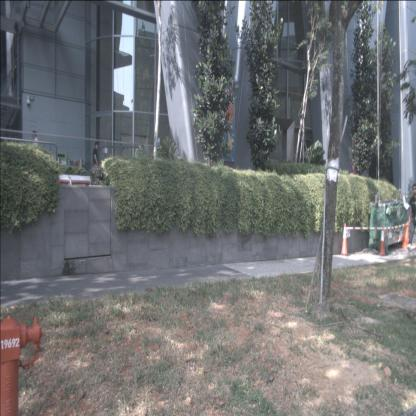cone: (378, 224, 386, 256), (340, 223, 348, 255), (402, 221, 410, 249)
